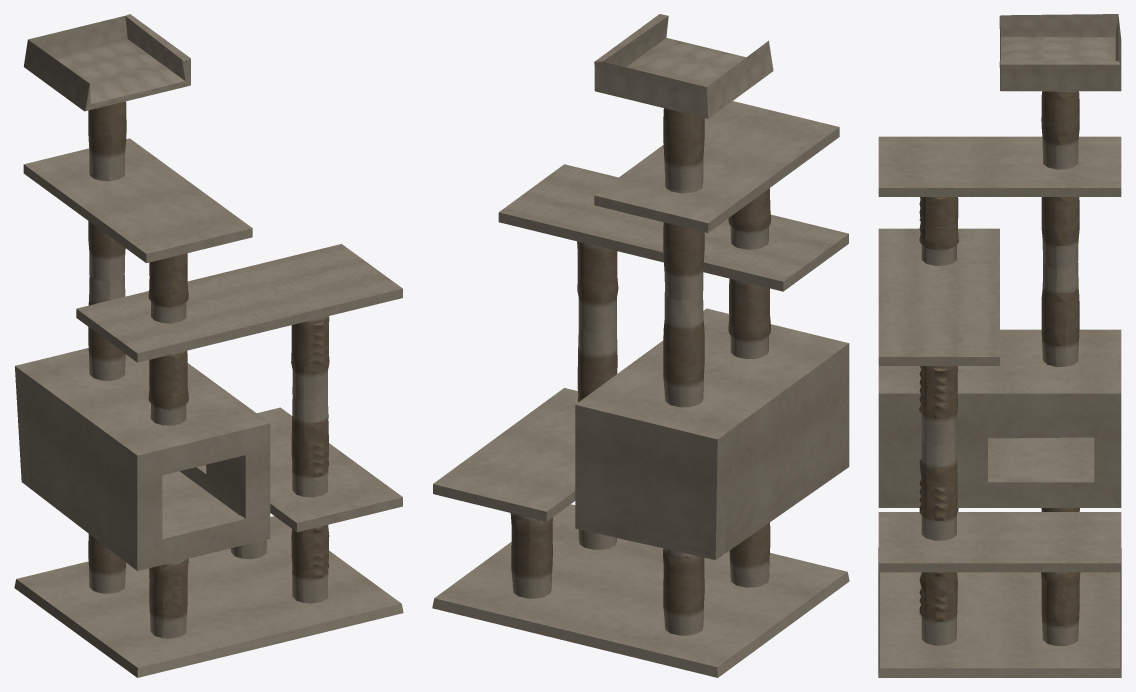
File: cat_tower.glb
3 views of the same model, side by side, from view 1: azimuth 30°, elevation 25°; view 2: azimuth 150°, elevation 25°; view 3: azimuth 270°, elevation 25° (orthographic). The views are drawn at different scales.
Visible parts, largest first — view 1: mesh; view 2: mesh; view 3: mesh.
Part boxes in pixels (x1,y1,x2,y2): mesh: (14, 14, 403, 677); mesh: (432, 14, 849, 677); mesh: (878, 14, 1121, 677).
Bounding box in the file's own units: 0.8028 × 1.58 × 0.6426.
Materials: 1 (1 with a texture image).
